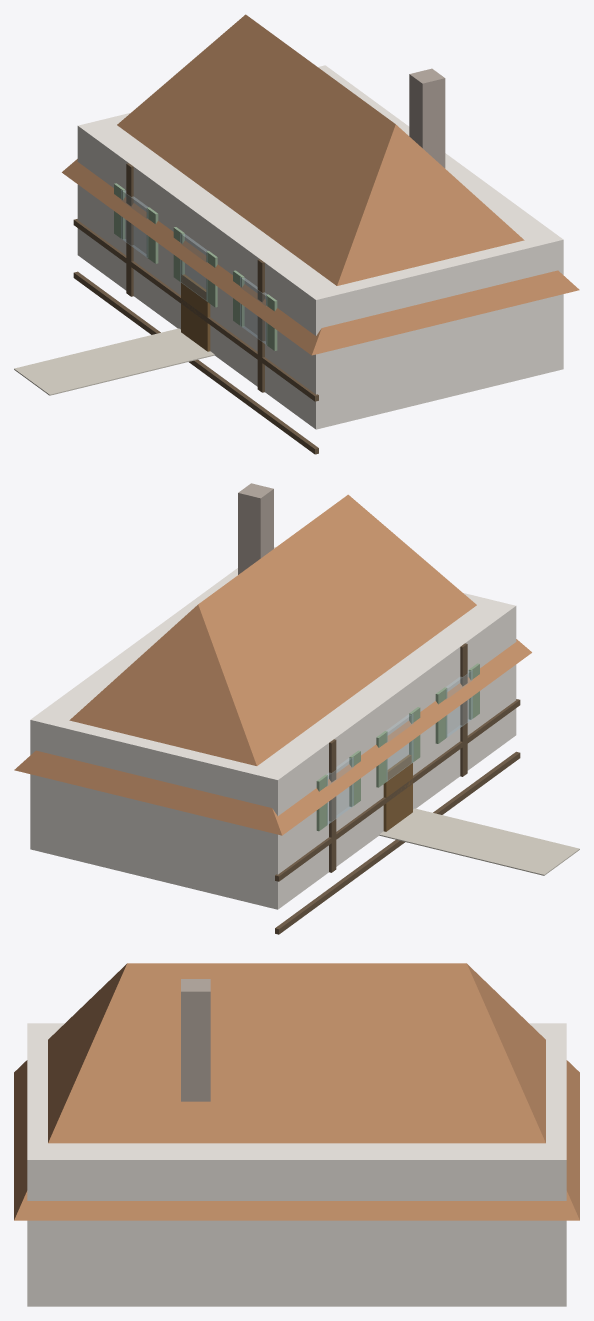
Rendered from maison-normande.glb.
The picture shows the model from 3 angles, top to bottom: view 1: azimuth 30°, elevation 25°; view 2: azimuth 150°, elevation 25°; view 3: azimuth 270°, elevation 25°; orthographic projection. The views are drawn at different scales.
Parts seen in each view (by area): view 1: N_Roof, N_Body, N_Path, N_Chimney, N_Timber_-3.5, N_Timber_0, N_Door, N_Win_0.0, N_Win_-2.0, N_Win_2.0, N_Timber_-2.2, N_Timber_2.2; view 2: N_Roof, N_Body, N_Path, N_Chimney, N_Timber_-3.5, N_Timber_0, N_Door, N_Win_0.0, N_Win_2.0, N_Win_-2.0, N_Timber_-2.2, N_Timber_2.2; view 3: N_Roof, N_Body, N_Chimney.
Boxes of the visible parts, x1,y1,x2,y2 form: N_Roof: (62, 14, 579, 355); N_Body: (77, 65, 563, 429); N_Path: (14, 328, 214, 395); N_Chimney: (409, 68, 445, 168); N_Timber_-3.5: (73, 271, 318, 454); N_Timber_0: (73, 219, 318, 401); N_Door: (181, 274, 210, 351); N_Win_0.0: (180, 233, 207, 301); N_Win_-2.0: (240, 277, 267, 344); N_Win_2.0: (121, 190, 147, 257); N_Timber_-2.2: (257, 259, 264, 392); N_Timber_2.2: (126, 163, 133, 296); N_Roof: (14, 494, 531, 835); N_Body: (30, 547, 516, 909); N_Path: (379, 808, 579, 875); N_Chimney: (238, 483, 273, 574); N_Timber_-3.5: (275, 751, 520, 934); N_Timber_0: (275, 699, 520, 881); N_Door: (383, 754, 412, 831); N_Win_0.0: (386, 714, 413, 781); N_Win_2.0: (327, 757, 353, 824); N_Win_-2.0: (446, 670, 472, 737); N_Timber_-2.2: (460, 643, 467, 776); N_Timber_2.2: (329, 739, 336, 872); N_Roof: (14, 963, 579, 1220); N_Body: (27, 1023, 566, 1306); N_Chimney: (181, 979, 210, 1101).
Size of what is drawn, in the model's own units: 8.2 by 5.13 by 8.4.
